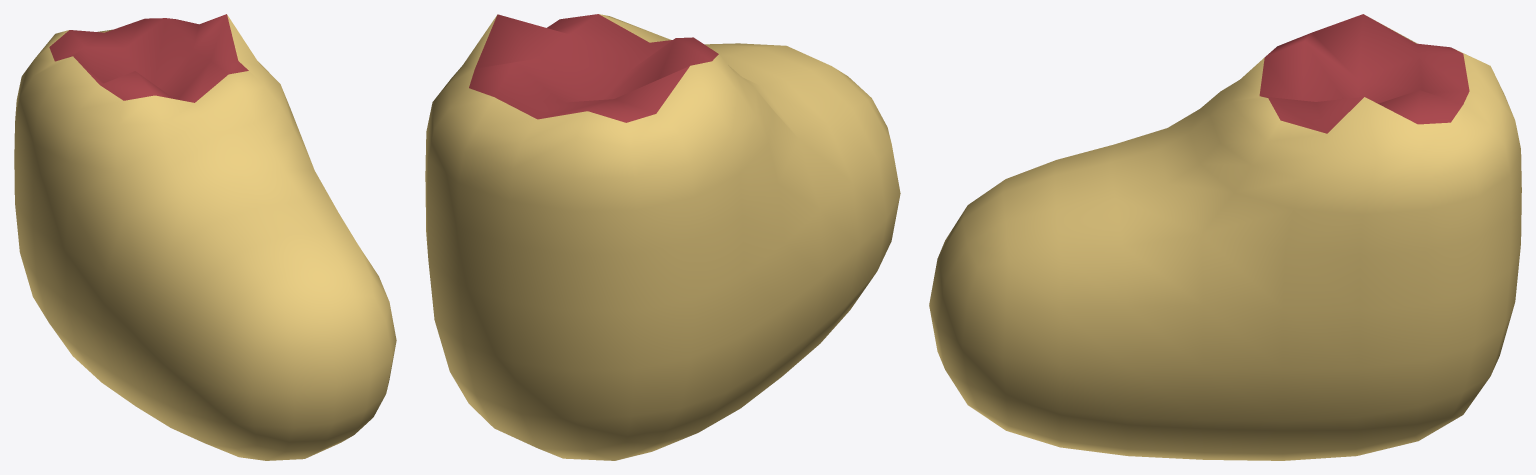
Rendered from Foot_Dism.fbx.
3 renders of one model, left to right at view 1: azimuth 30°, elevation 25°; view 2: azimuth 150°, elevation 25°; view 3: azimuth 270°, elevation 25°, orthographic. The views are drawn at different scales.
Parts seen in each view (by area): view 1: Foot_L.001; view 2: Foot_L.001; view 3: Foot_L.001.
Part boxes in pixels (x1=…): Foot_L.001: x1=14, y1=14, x2=396, y2=460; Foot_L.001: x1=425, y1=14, x2=900, y2=460; Foot_L.001: x1=929, y1=14, x2=1521, y2=460.
Size of the model in its own units: 64.33 by 86.9 by 119.
